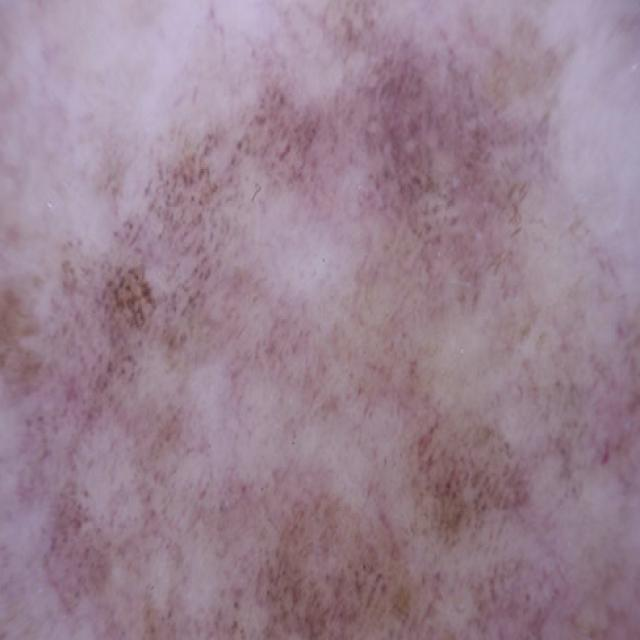Keratosis: (32, 113, 332, 616), (283, 383, 628, 640), (309, 141, 570, 321)
